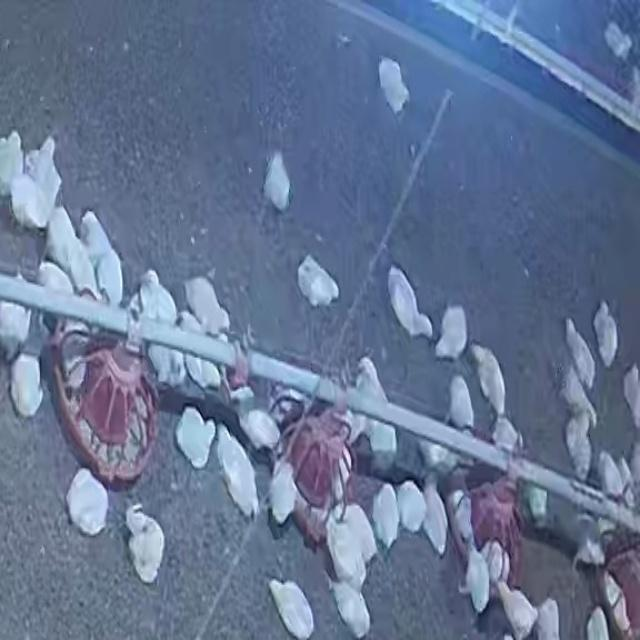chicken: (214, 425, 260, 516), (324, 508, 375, 588), (123, 504, 166, 584), (388, 268, 434, 340), (183, 275, 234, 337), (467, 344, 508, 421), (66, 466, 110, 536), (267, 578, 317, 638), (181, 313, 221, 387), (131, 269, 180, 325), (328, 578, 372, 638), (492, 580, 537, 638), (558, 365, 598, 429), (176, 405, 216, 468), (9, 352, 46, 418), (459, 542, 492, 613), (238, 405, 282, 455), (298, 256, 340, 308), (268, 457, 300, 525), (353, 358, 383, 430), (371, 482, 402, 548), (28, 136, 58, 204), (422, 479, 449, 554), (564, 411, 594, 478), (145, 335, 183, 387), (0, 296, 32, 356), (395, 479, 427, 537), (447, 372, 477, 432), (63, 322, 88, 393), (69, 241, 99, 300), (448, 487, 476, 550), (78, 210, 110, 265), (592, 301, 618, 368), (12, 176, 47, 225), (262, 155, 292, 211), (566, 320, 592, 384), (378, 59, 408, 114), (438, 306, 467, 361), (478, 539, 511, 587), (572, 526, 607, 571), (595, 450, 625, 502), (416, 438, 456, 477), (98, 252, 126, 305), (0, 130, 23, 192), (49, 213, 74, 268), (37, 261, 76, 296), (532, 599, 562, 639), (368, 420, 398, 460), (491, 414, 521, 454), (621, 364, 640, 424), (603, 22, 633, 60), (332, 445, 351, 503), (524, 482, 549, 524), (584, 605, 612, 640), (602, 570, 624, 610), (631, 69, 640, 115)
